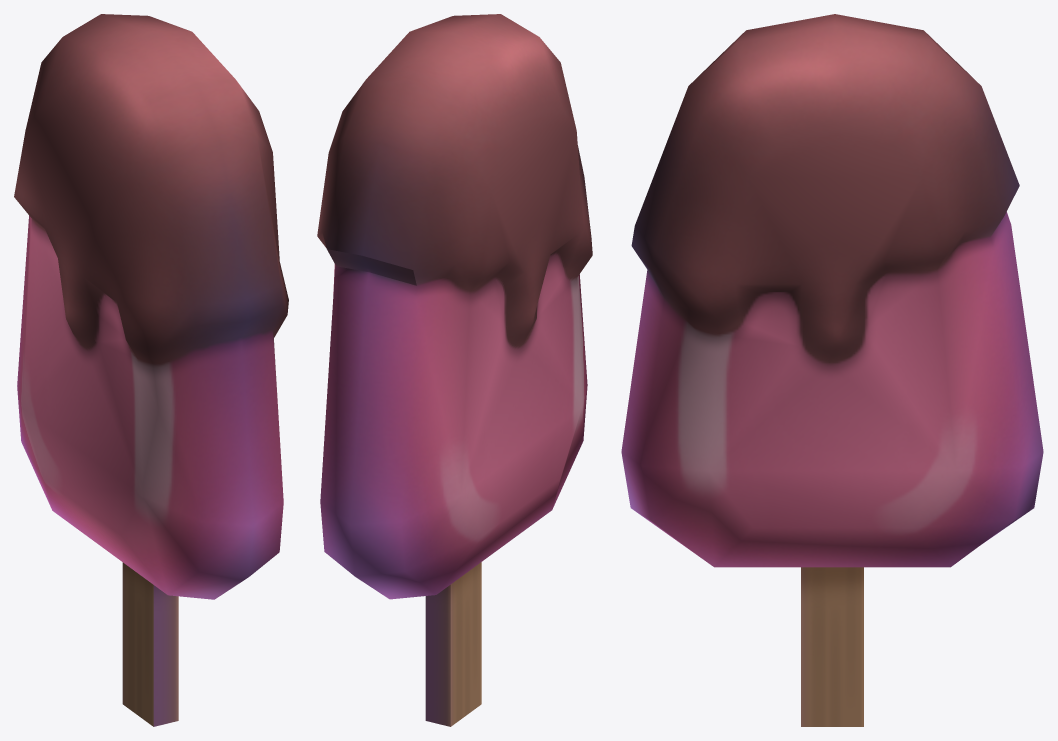
File: scenes_candy_icecream01.FBX
3 views of the same model, side by side, from view 1: azimuth 30°, elevation 25°; view 2: azimuth 150°, elevation 25°; view 3: azimuth 270°, elevation 25° (orthographic). The views are drawn at different scales.
Parts seen in each view (by area): view 1: scenes_candy_icecream01; view 2: scenes_candy_icecream01; view 3: scenes_candy_icecream01.
Part boxes in pixels (x1=…): scenes_candy_icecream01: x1=14, y1=14, x2=288, y2=726; scenes_candy_icecream01: x1=317, y1=14, x2=592, y2=726; scenes_candy_icecream01: x1=621, y1=14, x2=1043, y2=726.
Size of the model in its own units: 42.67 by 170 by 93.48.
